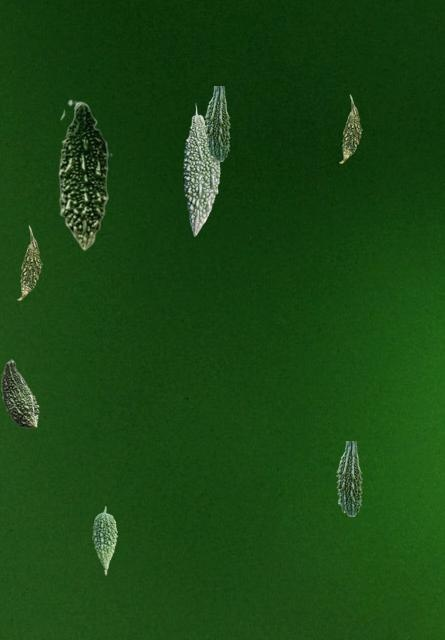ampalaya: (58, 99, 111, 250), (182, 103, 220, 235), (1, 359, 38, 427), (336, 441, 361, 515), (204, 86, 229, 160), (17, 225, 41, 299), (92, 506, 116, 574), (339, 94, 361, 162)
